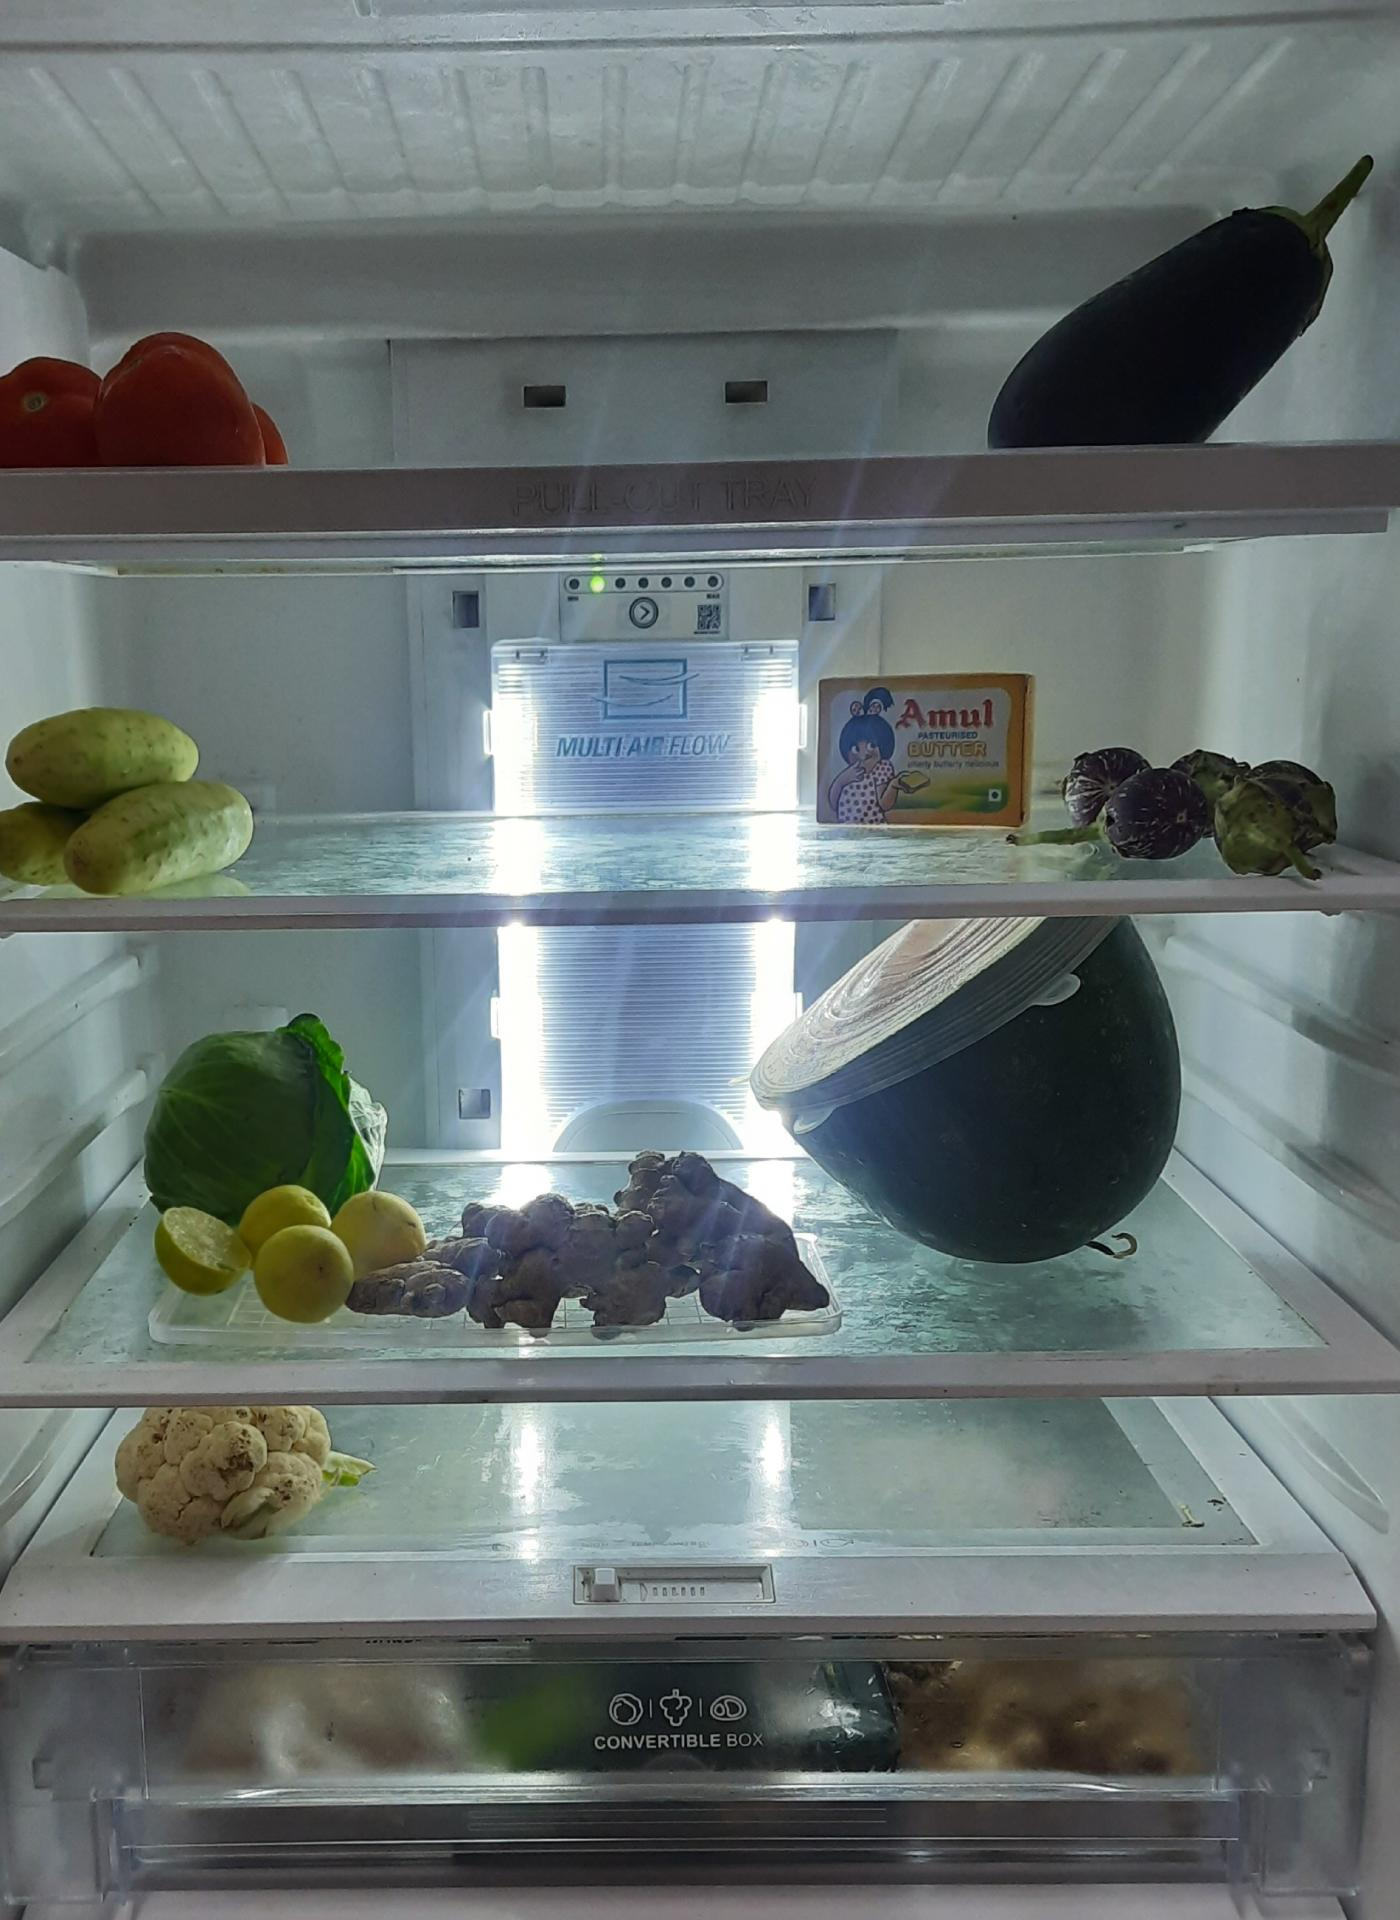brinjal: (968, 131, 1387, 452), (1044, 747, 1342, 874)
butter: (816, 663, 1033, 842)
cabbage: (148, 1021, 400, 1237)
cauliflower: (112, 1398, 374, 1550)
cucumber: (0, 701, 262, 903)
ginger: (344, 1161, 820, 1325)
lemon: (146, 1179, 425, 1319)
tomato: (4, 322, 295, 468)
watermelon: (751, 917, 1184, 1258)
